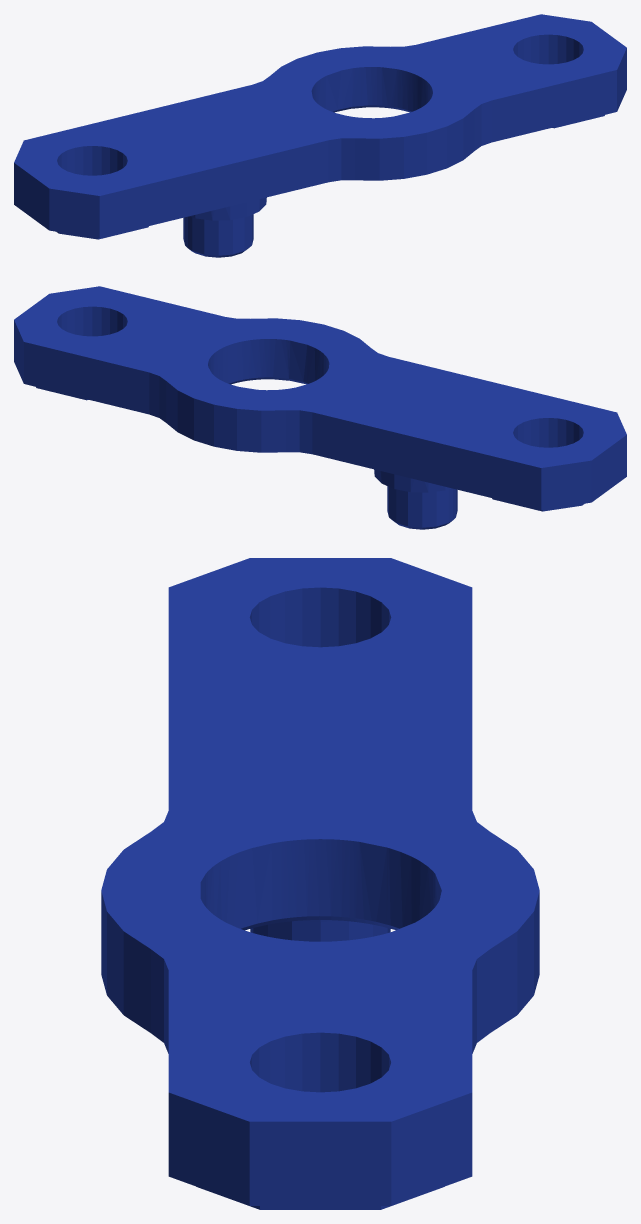
The model's file is gearBoxTop_blue.dae.
3 views of the same model, one above another, from view 1: azimuth 30°, elevation 25°; view 2: azimuth 150°, elevation 25°; view 3: azimuth 270°, elevation 25° (orthographic). The views are drawn at different scales.
Parts seen in each view (by area): view 1: gearBoxTop_v3; view 2: gearBoxTop_v3; view 3: gearBoxTop_v3.
Boxes of the visible parts, x1,y1,x2,y2 form: gearBoxTop_v3: (14,14,626,257); gearBoxTop_v3: (14,286,626,529); gearBoxTop_v3: (101,558,539,1209).
Bounding box in the file's own units: 0.1704 × 0.056 × 0.0323.
